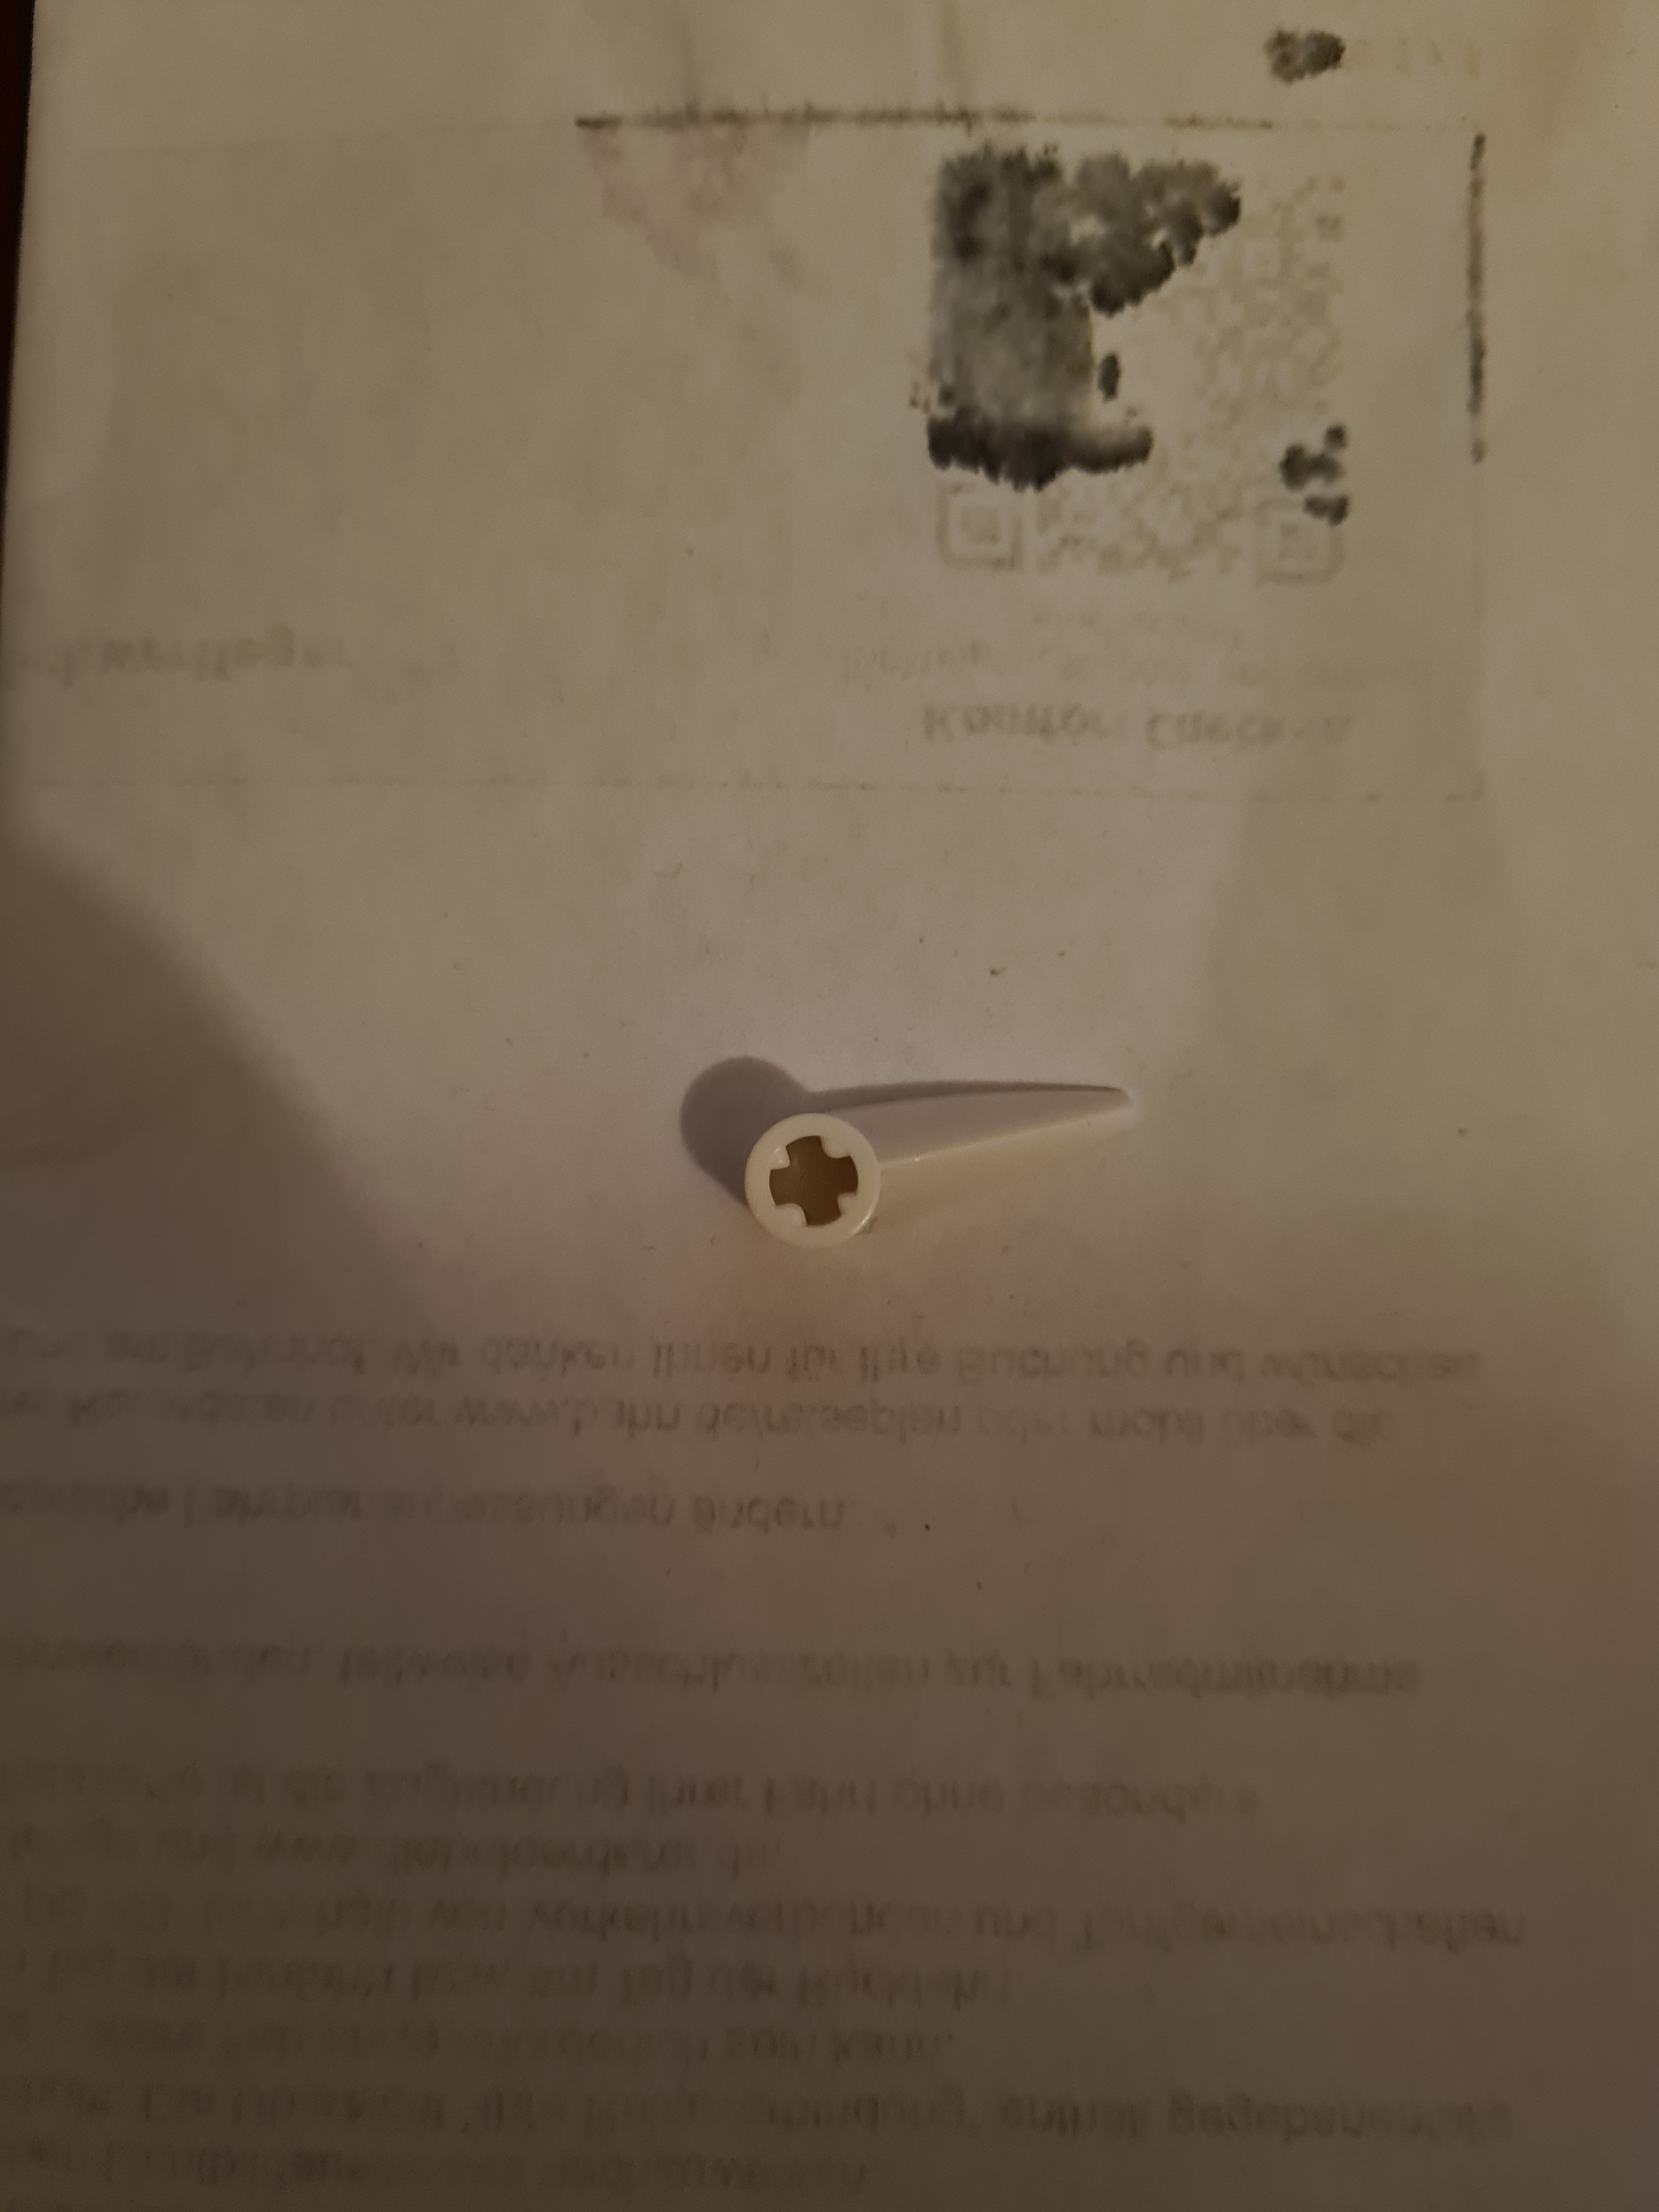Kappe: (723, 1036, 1164, 1254)
